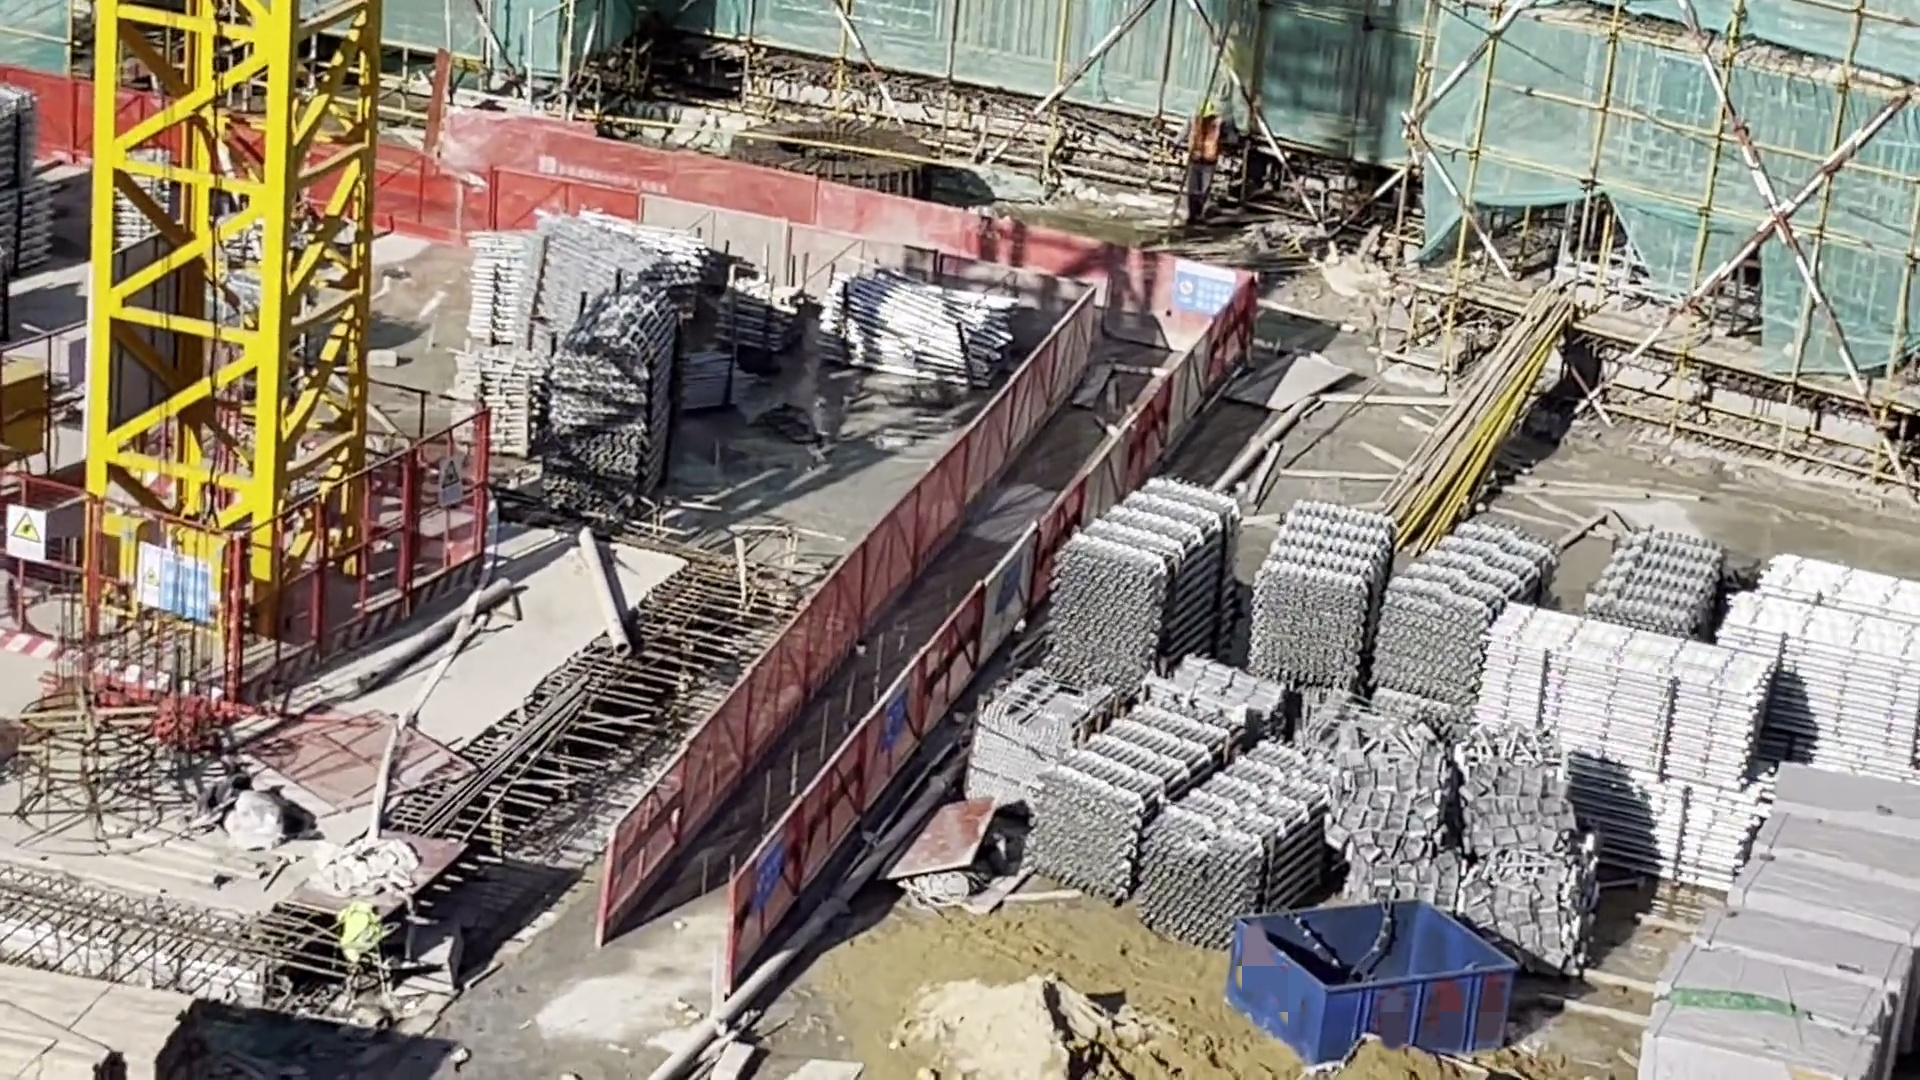ebox: (123, 509, 254, 637), (1, 381, 71, 464)
fence: (419, 107, 1261, 401), (606, 666, 981, 966), (768, 393, 1115, 668), (248, 421, 484, 674), (21, 494, 233, 721)
helmet: (1196, 100, 1218, 118)
hopper: (1223, 882, 1526, 1054)
person: (1184, 105, 1226, 225)
rebar: (411, 665, 611, 856)
scaffold: (1038, 492, 1243, 692), (1056, 682, 1258, 871), (1478, 614, 1734, 762), (1754, 544, 1920, 731), (1146, 741, 1311, 924), (821, 247, 991, 421), (463, 352, 679, 486), (1388, 512, 1544, 684), (1569, 737, 1733, 894), (1251, 511, 1381, 671), (484, 232, 678, 337), (1581, 521, 1721, 601), (984, 702, 1093, 792), (681, 261, 811, 332), (13, 81, 54, 259)
vest: (1183, 116, 1221, 161)
